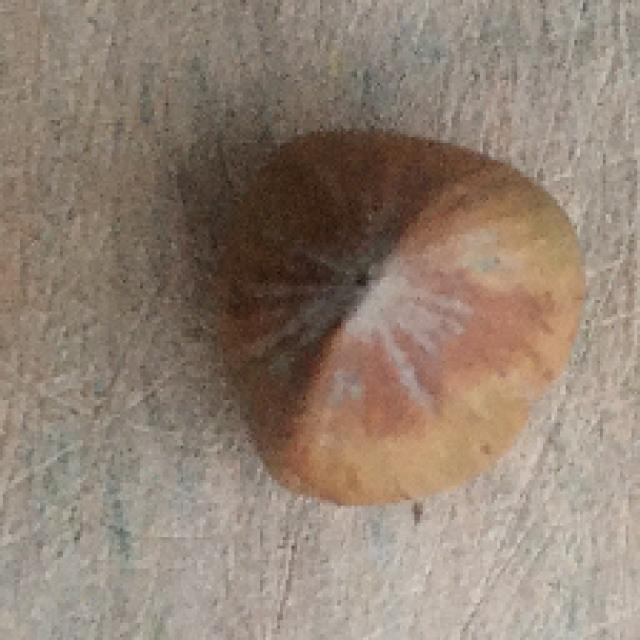damagedHazelnut: (209, 121, 590, 516)
